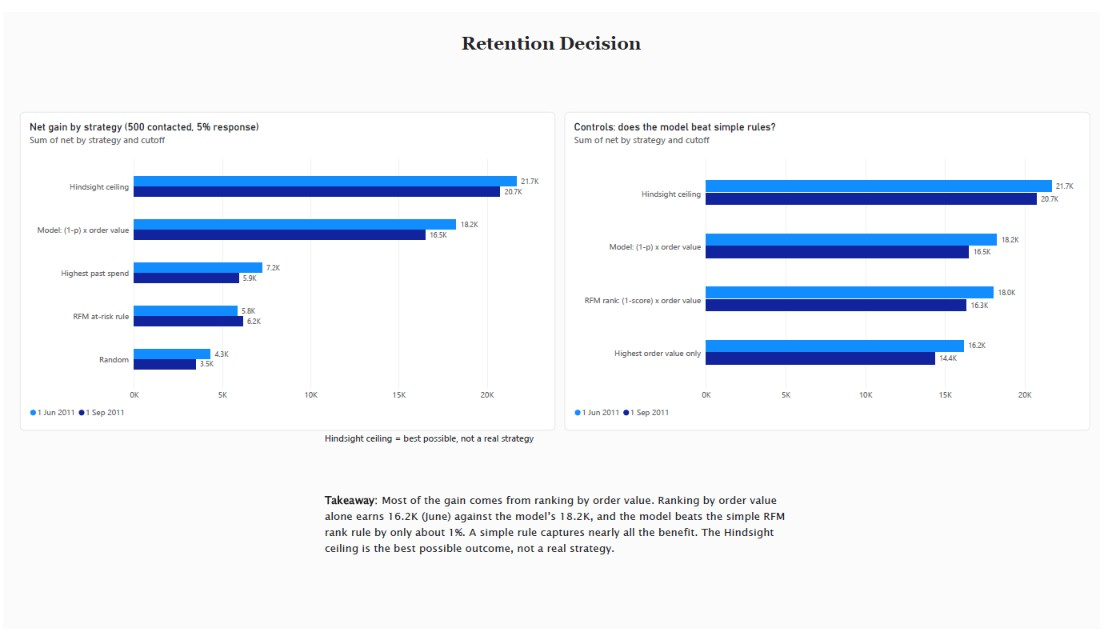

The dashboard page shown, as its layout file describes it:
{"tool":"powerbi","page":{"name":"Retention decision","canvas":[1920,1080],"ordinal":3},"visuals":[{"type":"clusteredBarChart","title":"Net gain by strategy (500 contacted, 5% response)","fields":{"Category":["backtest_summary.strategy"],"Series":["backtest_summary.cutoff"],"Y":["Sum(backtest_summary.net)"]},"box":[29.2,175,937.5,558.3],"z":0},{"type":"textbox","box":[563.3,734.7,426.7,50],"z":1000},{"type":"clusteredBarChart","title":"Controls: does the model beat simple rules?","fields":{"Category":["backtest_controls.strategy"],"Series":["backtest_controls.cutoff"],"Y":["Sum(backtest_controls.net)"]},"box":[983.3,175,920.8,558.3],"z":2000},{"type":"textbox","box":[562.5,841.7,808.3,143.8],"z":3000},{"type":"textbox","box":[0,36.7,1920,45],"z":4000}]}

Visuals, with their boxes in screenshot pixels (x1, y1, x2, y2), scaled from the page's 1920x1080 canvas onto the 1109x634 screenshot:
"Net gain by strategy (500 contacted, 5% response)" clusteredBarChart: bbox(17, 103, 558, 430)
textbox: bbox(325, 431, 572, 461)
"Controls: does the model beat simple rules?" clusteredBarChart: bbox(568, 103, 1100, 430)
textbox: bbox(325, 494, 792, 579)
textbox: bbox(0, 22, 1108, 48)
